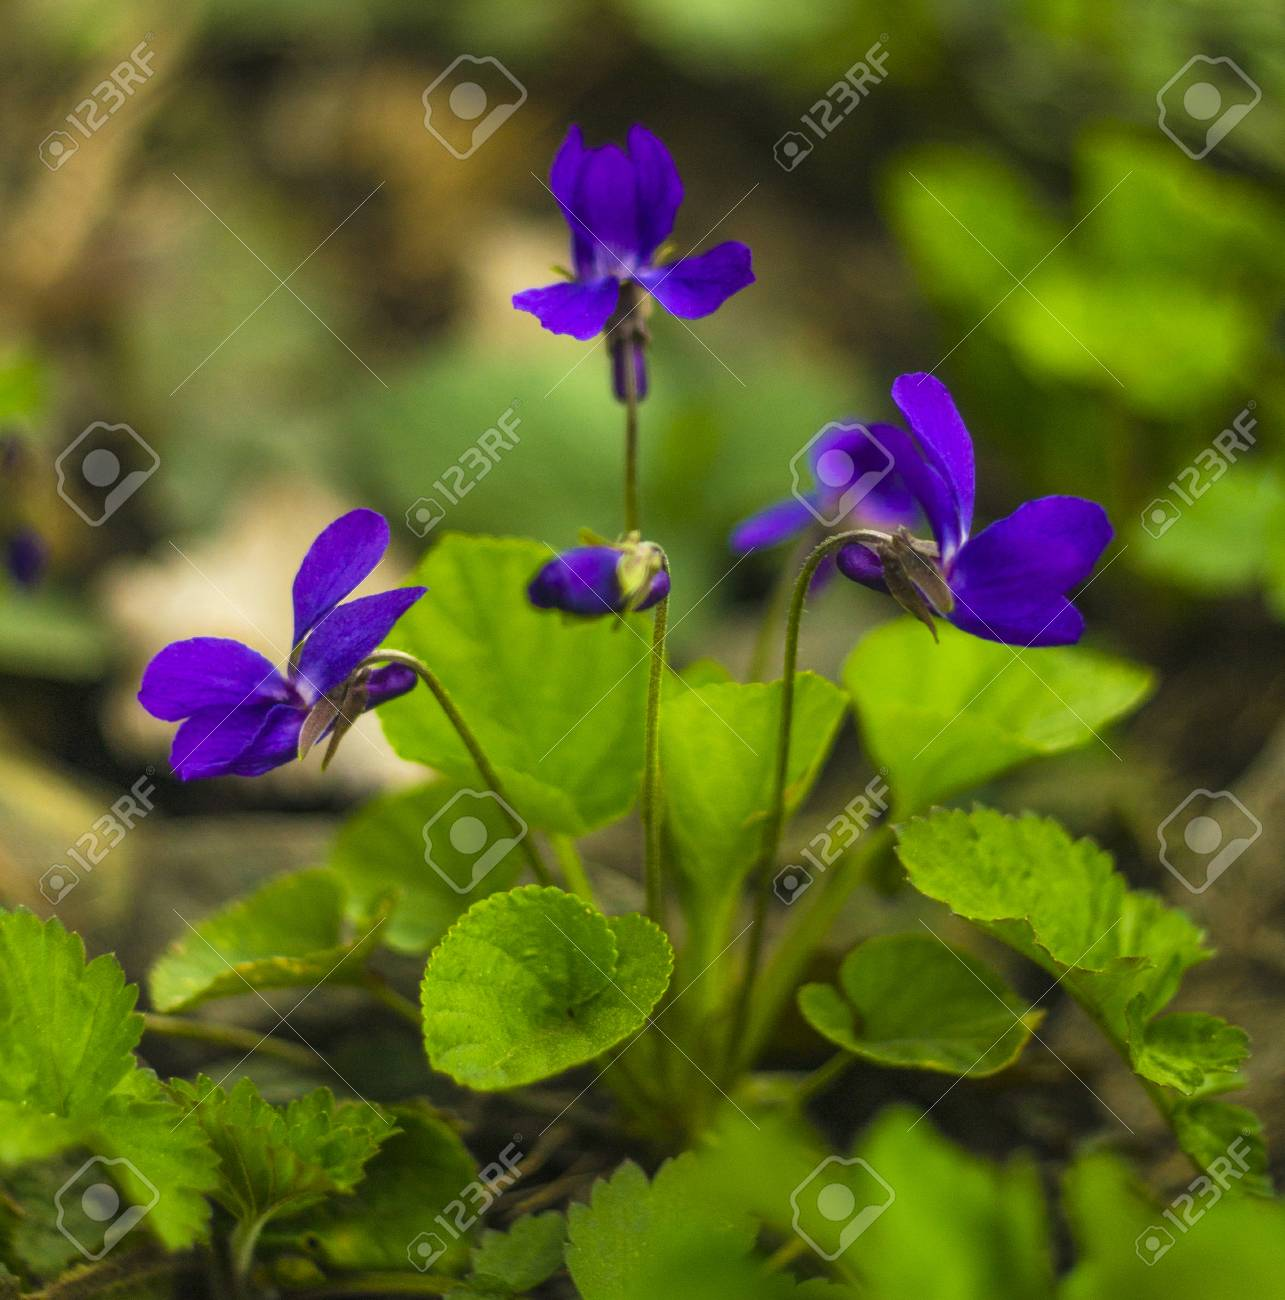violet: (765, 375, 1121, 700), (116, 496, 425, 796), (499, 105, 763, 414)
